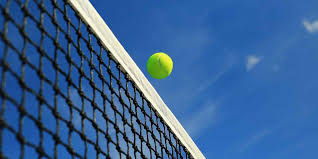tennis_ball: (147, 51, 173, 80)
